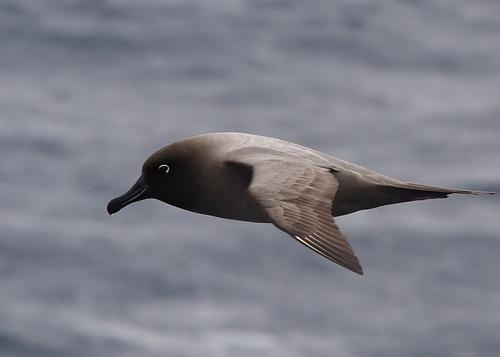bird: (105, 130, 498, 277)
